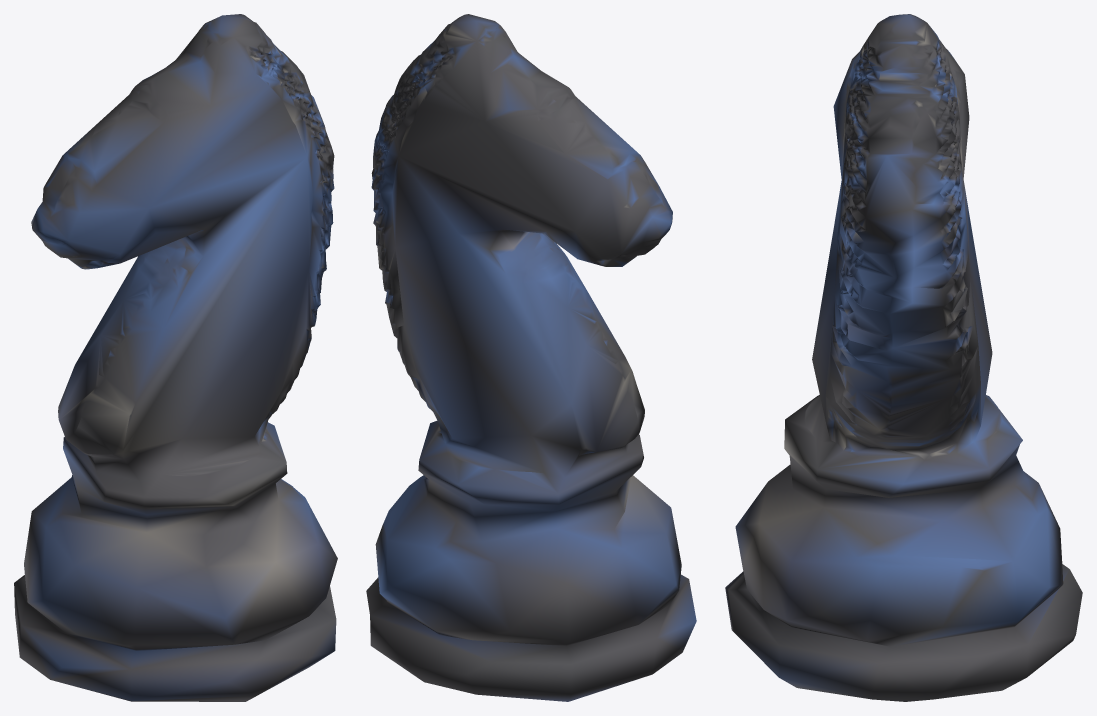
Rendered from cobalt_vein_black_knight.glb.
3 views of the same model, side by side, from view 1: azimuth 30°, elevation 25°; view 2: azimuth 150°, elevation 25°; view 3: azimuth 270°, elevation 25° (orthographic). The views are drawn at different scales.
Parts seen in each view (by area): view 1: Cobalt Vein black knight; view 2: Cobalt Vein black knight; view 3: Cobalt Vein black knight.
Part boxes in pixels (bbox=[...]): Cobalt Vein black knight: bbox=[14, 14, 337, 701]; Cobalt Vein black knight: bbox=[366, 14, 696, 701]; Cobalt Vein black knight: bbox=[725, 14, 1082, 701].
Bounding box in the file's own units: 0.0352 × 0.0716 × 0.0354.
